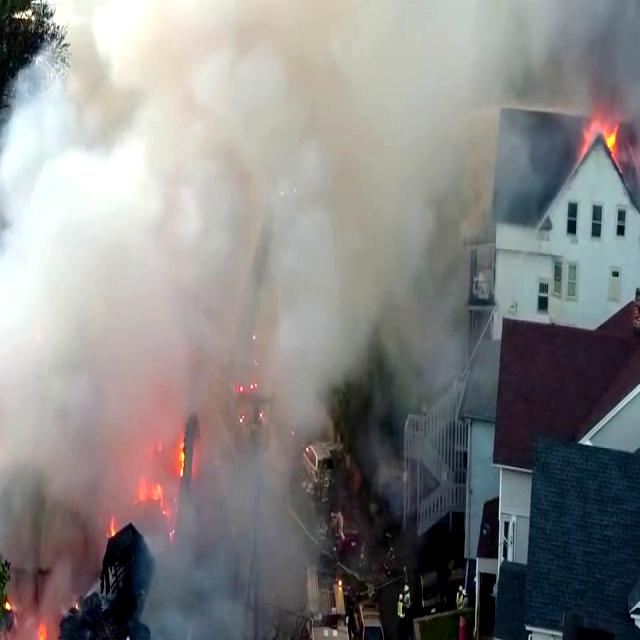smoke: (32, 79, 339, 465)
